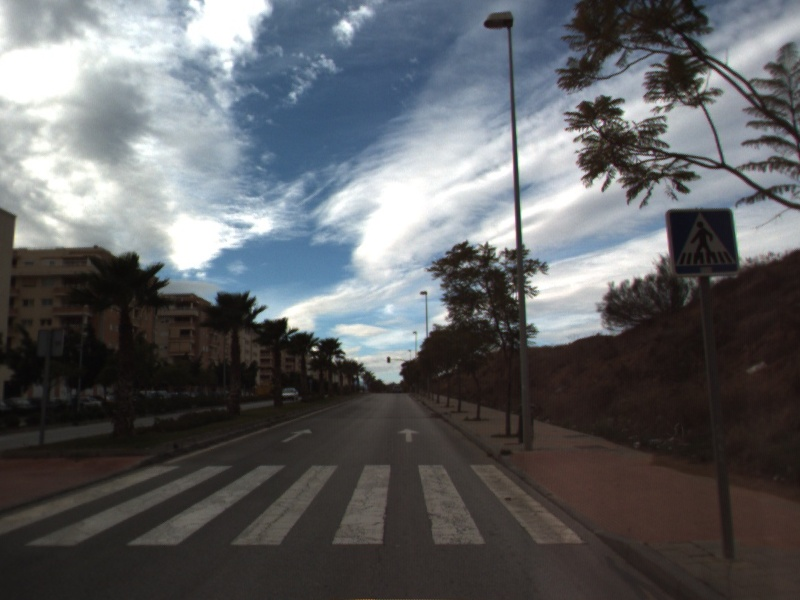STRAIGHT: (279, 426, 314, 444), (396, 426, 422, 444)
